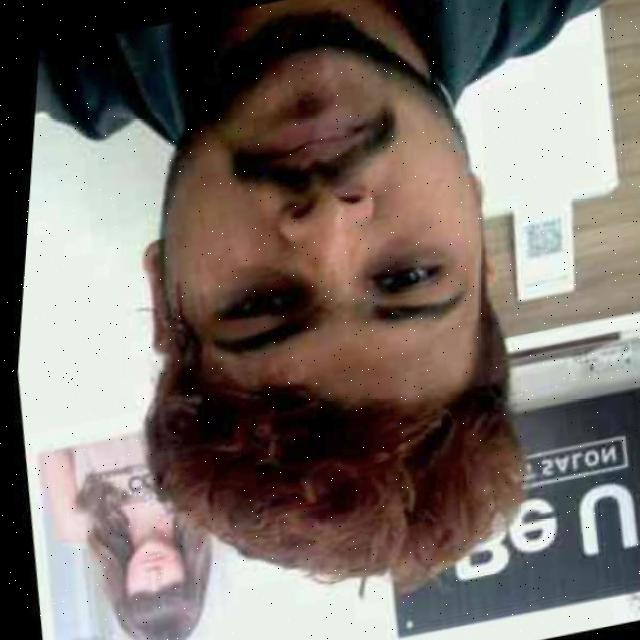puffy_eyes: (227, 273, 312, 325), (362, 250, 446, 278)
